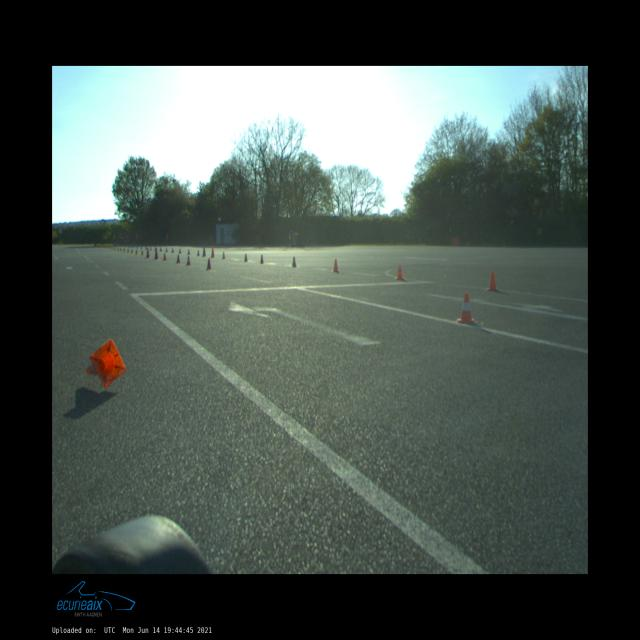blue_cone: (187, 249, 190, 255), (197, 250, 200, 255), (171, 248, 174, 253), (159, 246, 162, 251), (165, 248, 168, 252), (154, 246, 157, 250), (179, 249, 181, 253), (150, 246, 152, 250), (145, 246, 147, 250), (140, 245, 142, 249)
large_orange_cone: (154, 248, 159, 259), (146, 246, 150, 258), (211, 247, 215, 257), (202, 248, 206, 256)
orange_cone: (85, 338, 126, 389), (456, 293, 476, 324), (486, 272, 498, 292), (395, 264, 405, 280), (332, 259, 339, 272), (206, 258, 212, 270), (292, 256, 297, 267), (186, 256, 191, 265), (176, 254, 181, 263), (260, 254, 264, 264), (244, 253, 248, 262), (222, 251, 226, 259), (163, 253, 167, 260)
yellow_cone: (140, 249, 144, 255), (135, 248, 138, 254), (131, 248, 133, 254), (127, 248, 129, 253), (120, 247, 122, 251), (117, 247, 119, 251), (111, 246, 113, 250), (114, 247, 116, 250), (124, 248, 125, 252)
